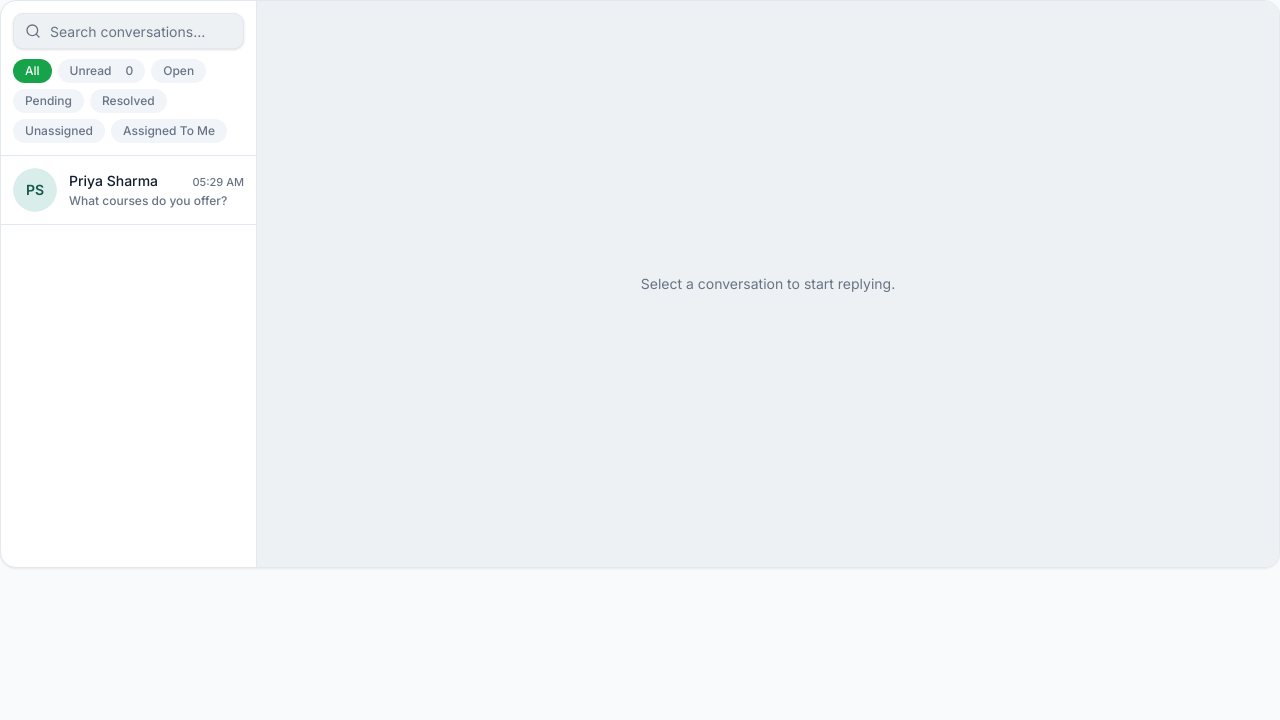
Test: Team inbox › blocks free text after the window closed and sends a template instead
Later steps or results of the test are not shown.
Click the button "PS Priya Sharma 05:29 AM What courses do you offer?" at (128,190), box [1,156,256,225]
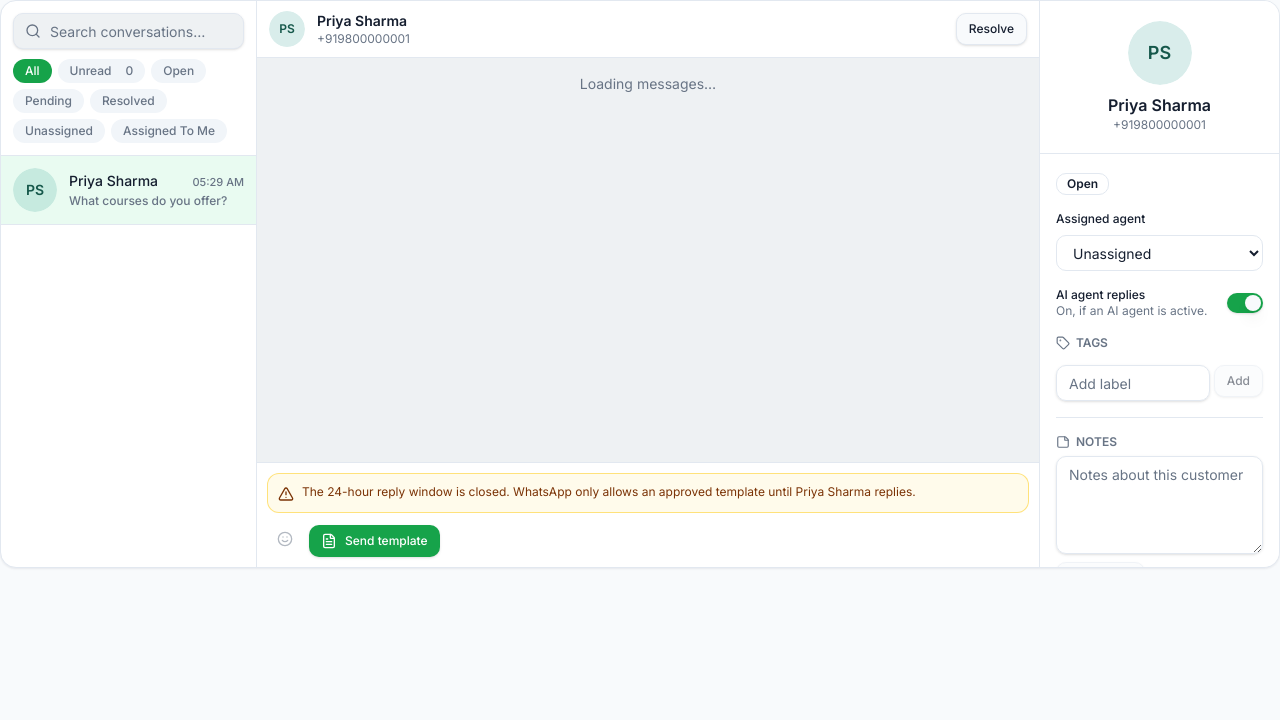
Now the text "24-hour reply window is closed" is shown, box [302,484,792,499]
Click the button with aria-label "Send a template" at (374,541), box [309,525,440,557]
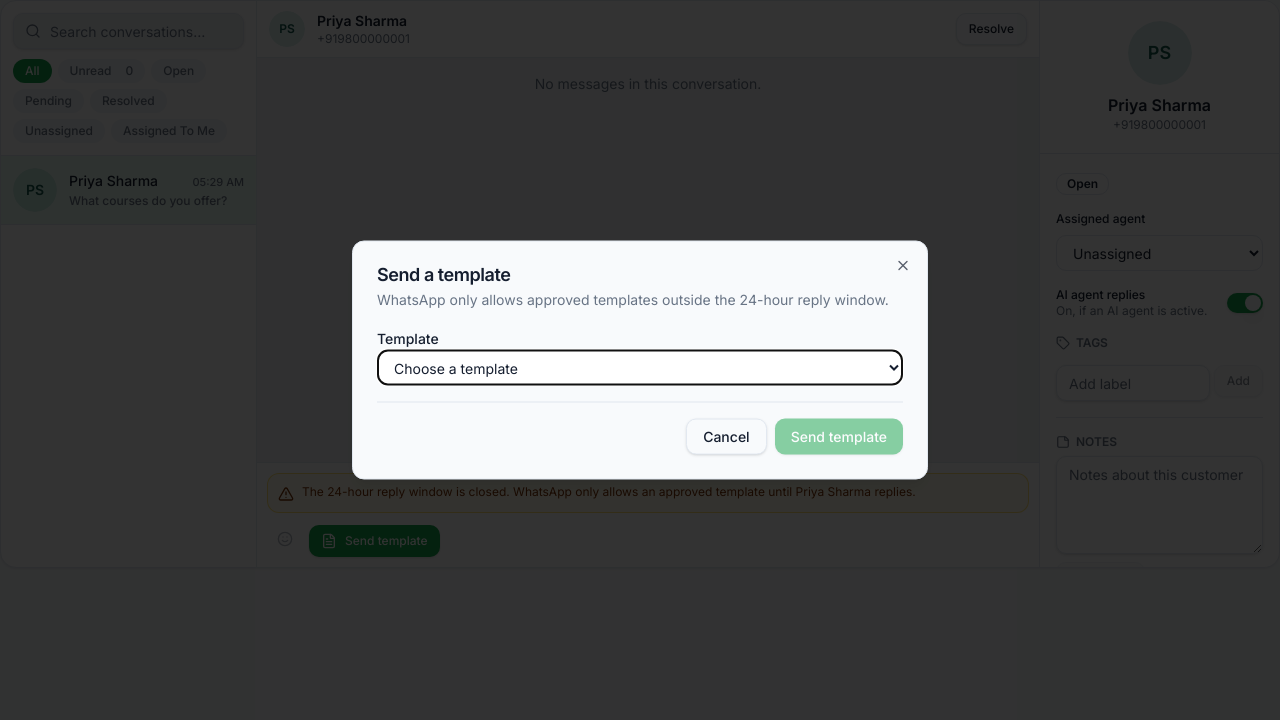
Select "reopen_chat (en)" in the dropdown labelled "Template" at (640,368), box [377,350,903,386]
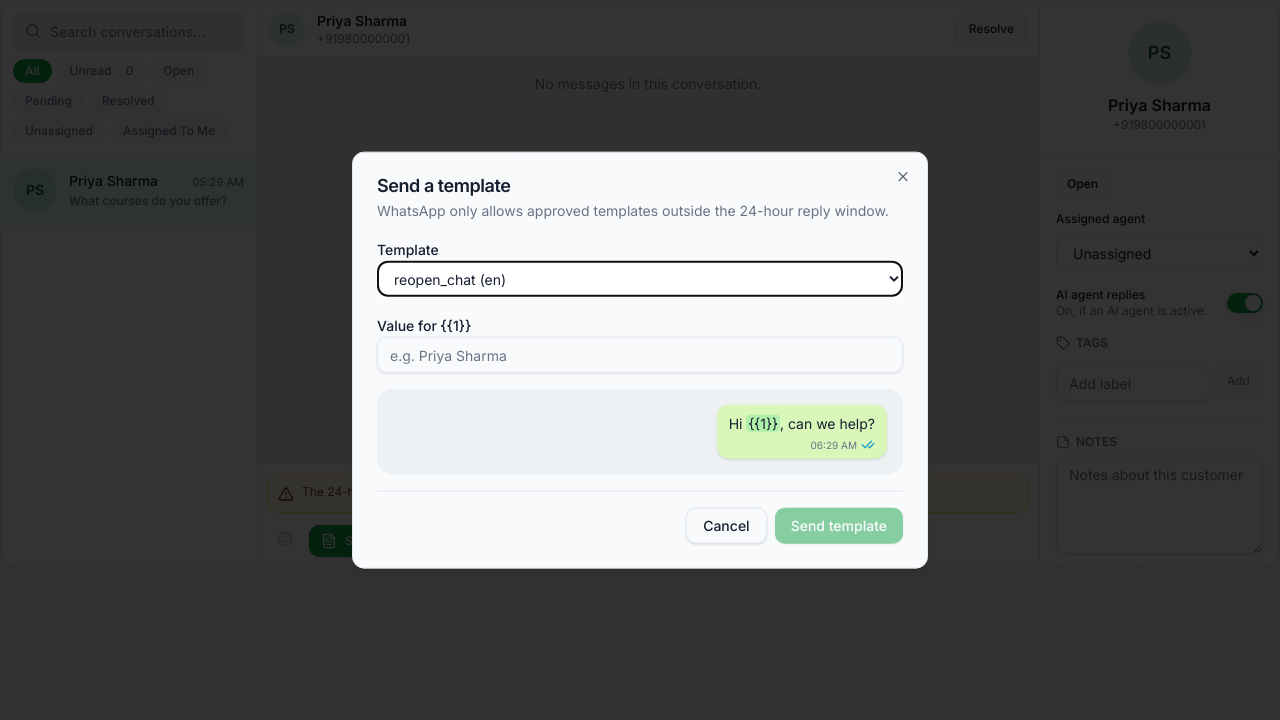
Now the button "Send template" is disabled, box [775,507,903,543]
Type "Priya" into the field labelled "Value for {{1}}" at (640,355), box [377,337,903,373]
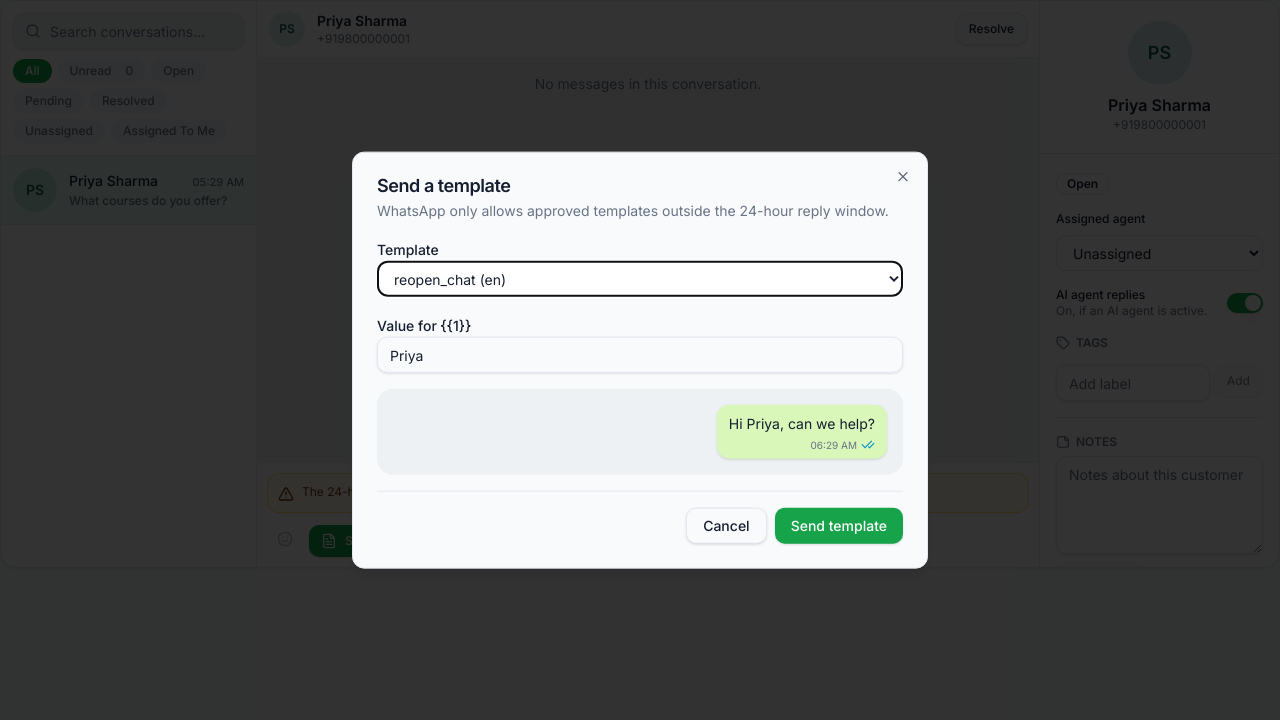
Now the button "Send template" is enabled, box [775,507,903,543]
